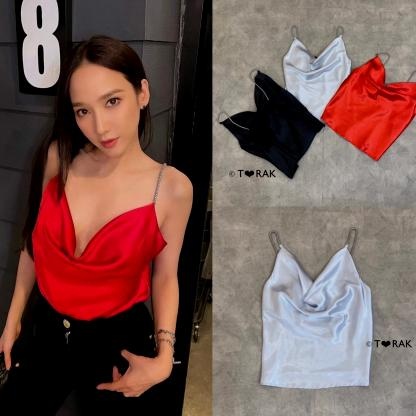jacket: (20, 145, 174, 324), (256, 222, 374, 389), (219, 68, 330, 185), (318, 50, 416, 163), (278, 17, 357, 124)
